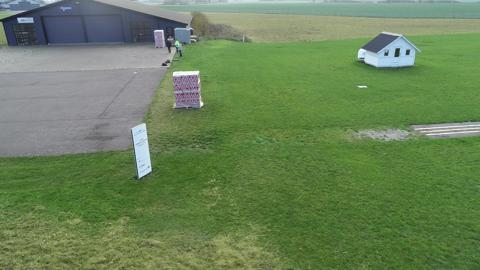RockwoolPallet: (153, 29, 166, 49)
